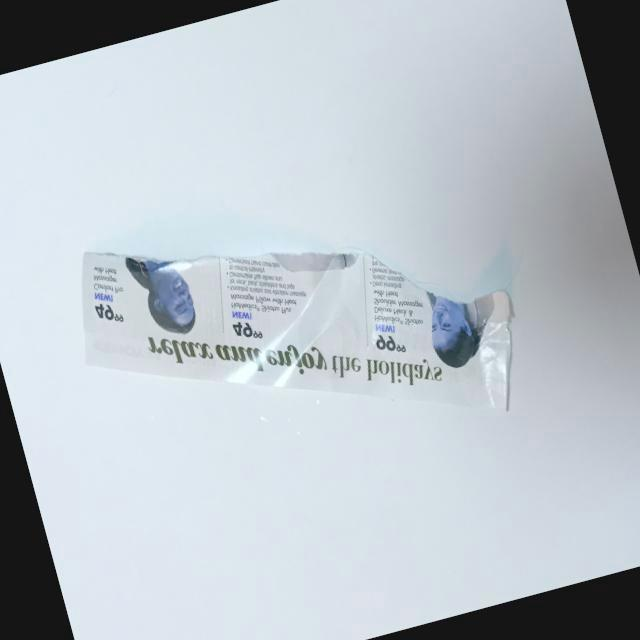paper: (52, 142, 546, 524)
